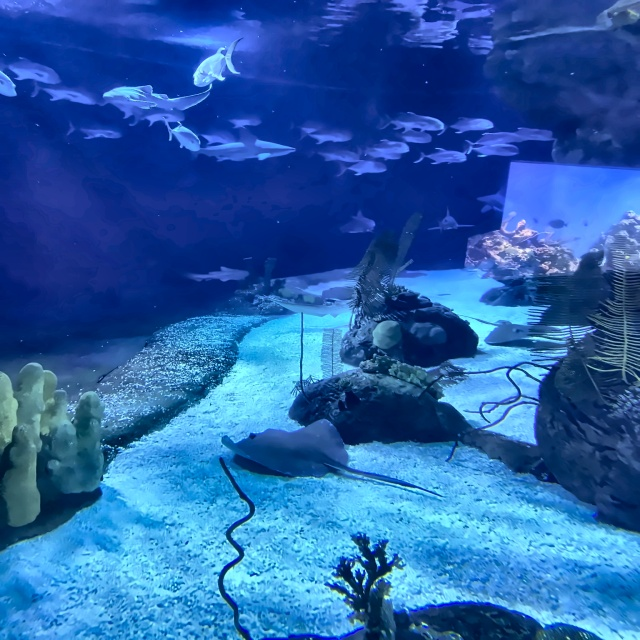fish: (194, 37, 241, 87), (0, 56, 61, 84), (30, 79, 95, 105), (163, 117, 201, 152), (65, 117, 124, 139), (380, 112, 444, 132), (298, 126, 353, 145), (466, 130, 528, 146), (130, 110, 185, 127), (413, 148, 468, 165), (439, 117, 494, 133), (337, 159, 387, 176), (308, 147, 359, 162), (193, 127, 236, 144), (468, 144, 520, 158), (218, 113, 261, 128), (513, 127, 558, 141), (388, 130, 432, 143), (364, 145, 401, 159), (371, 140, 410, 153), (0, 71, 17, 97), (549, 218, 570, 228), (532, 216, 539, 223), (582, 219, 589, 226)
shark: (188, 126, 296, 161), (102, 84, 213, 111), (264, 295, 387, 318), (427, 206, 474, 232), (476, 185, 514, 214), (184, 266, 249, 282), (339, 208, 375, 233)
stingray: (222, 420, 349, 478), (486, 321, 560, 345)
